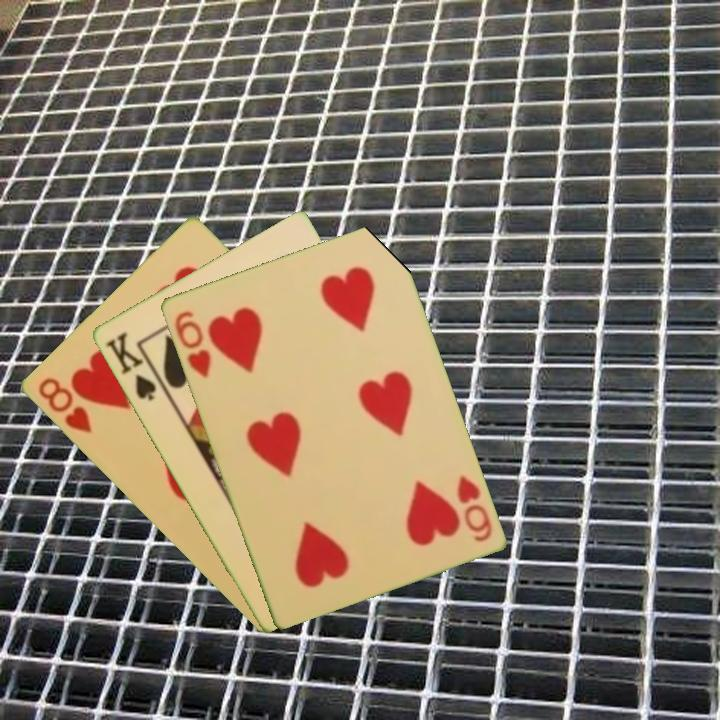6h: (170, 307, 213, 381), (453, 471, 495, 545)
8h: (34, 374, 95, 437)
Ks: (101, 328, 167, 404)
